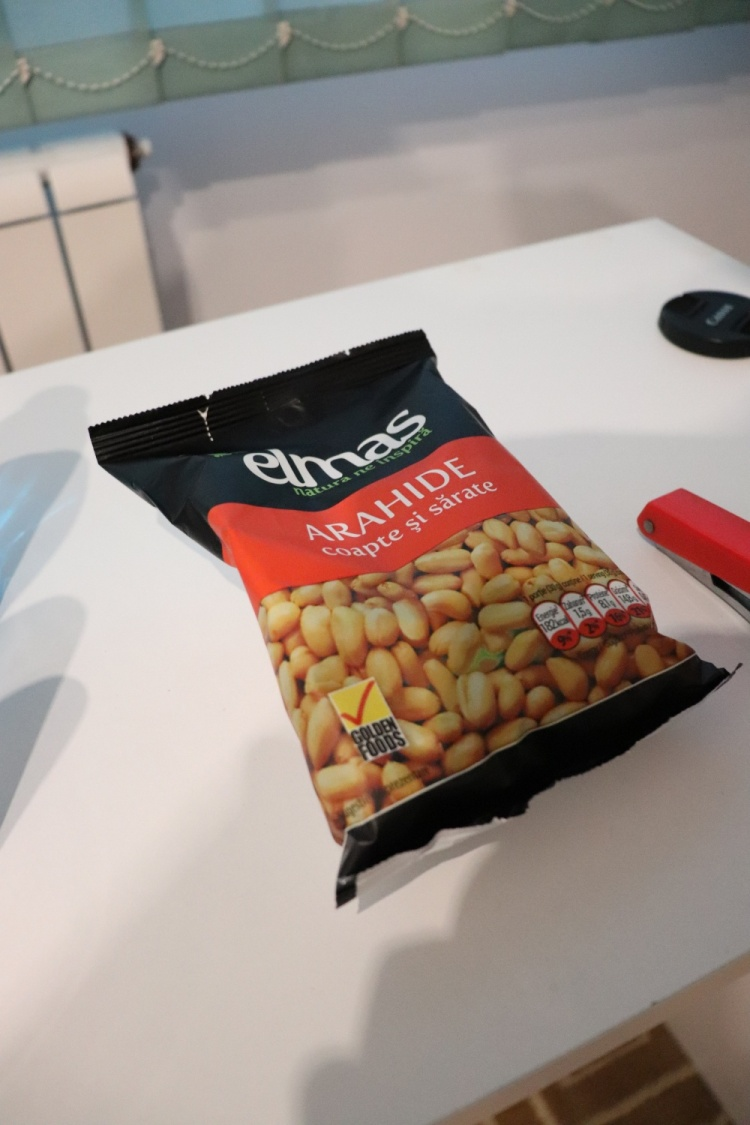peanuts: (79, 322, 746, 948)
